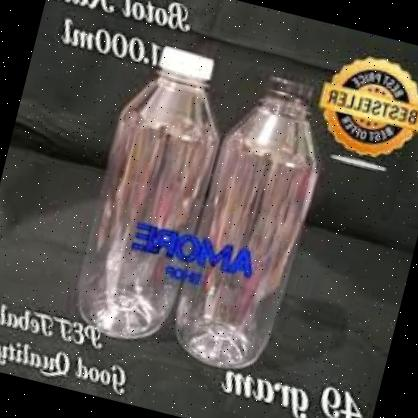bottle: (136, 56, 376, 398), (46, 22, 244, 358)
cap: (149, 40, 223, 90)
